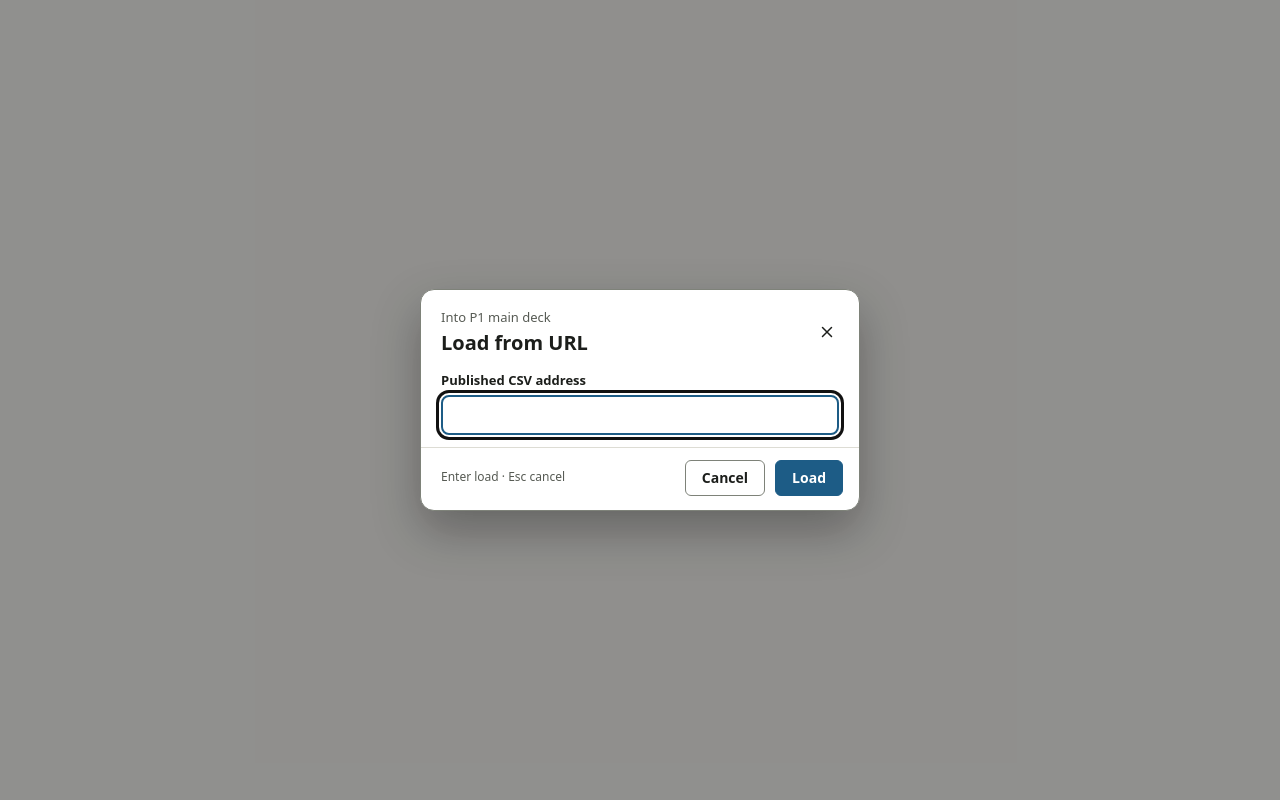
it: CD-8 edit links › shows the publish steps and makes no request
The width and height of the screenshot is (1280, 800).
Type "https://docs.google.com/spreadsheets/d/abc/edit?usp=sharing" into the field at [640, 415], box top-left (441, 395), bottom-right (839, 435)
Then press Enter
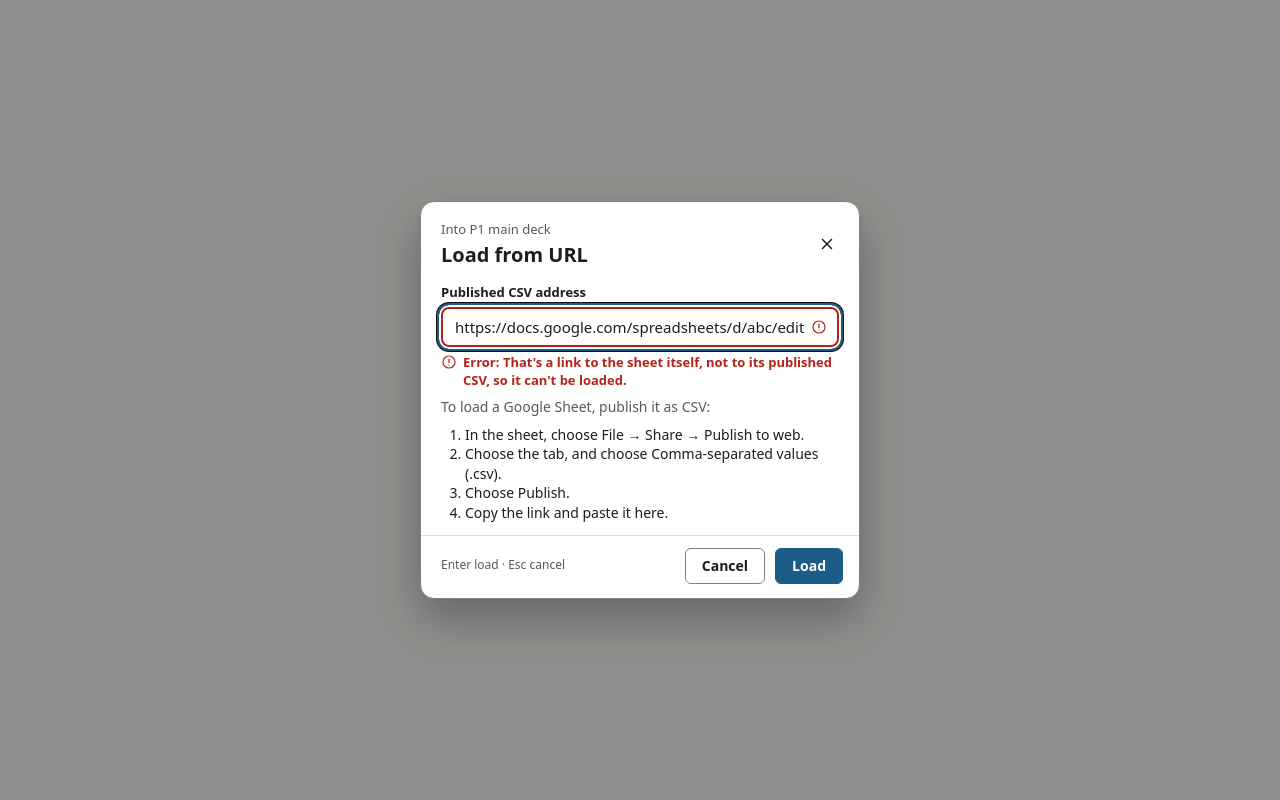
expect the list items read "In the sheet, choose File → Share → Publish to web.", "Choose the tab, and choose Comma-separated values (.csv).", "Choose Publish.", "Copy the link and paste it here.", in this order: met, box top-left (465, 425), bottom-right (839, 444); top-left (465, 444), bottom-right (839, 484); top-left (465, 484), bottom-right (570, 502); top-left (465, 503), bottom-right (668, 522)
